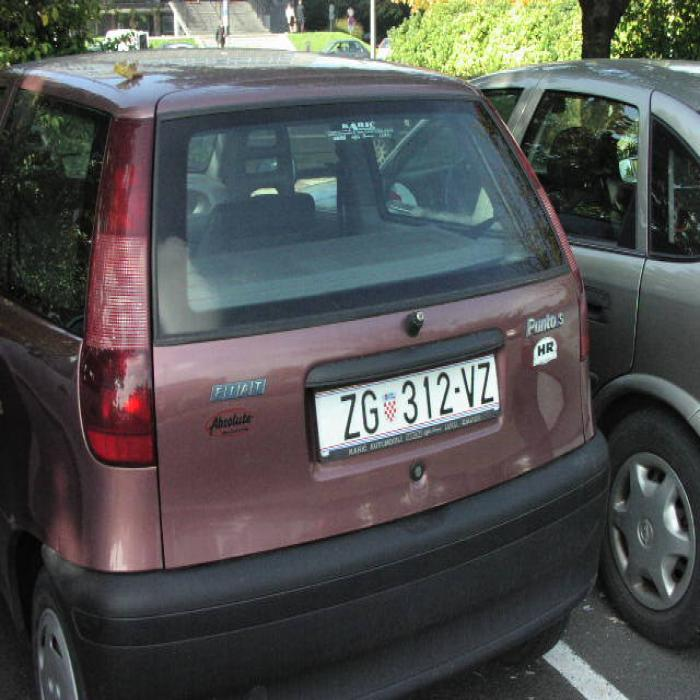number_plate: (328, 358, 494, 447)
